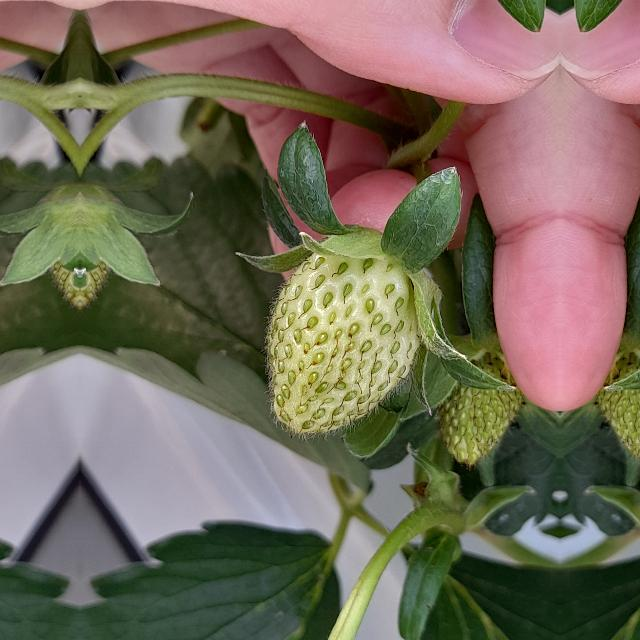Health_25: (260, 252, 420, 442), (434, 344, 524, 460), (596, 344, 640, 460)
